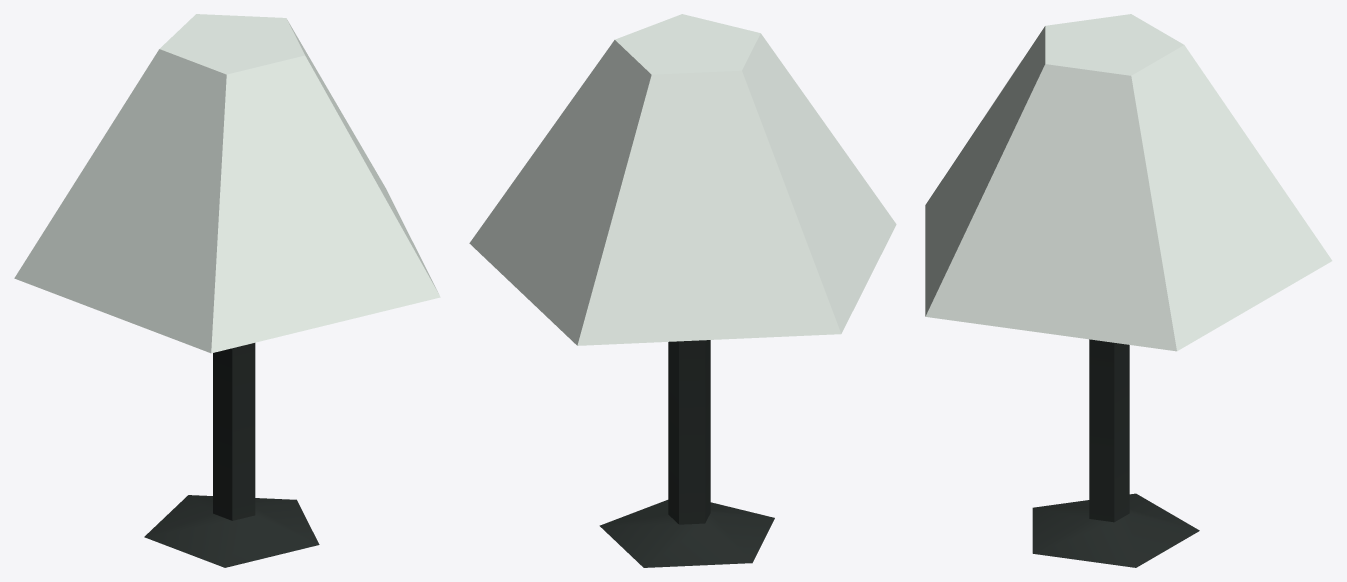
Rendered from Lamp_Off.glb.
3 views of the same model, side by side, from view 1: azimuth 30°, elevation 25°; view 2: azimuth 150°, elevation 25°; view 3: azimuth 270°, elevation 25° (orthographic).
Visible parts, largest first — view 1: lamp_Off; view 2: lamp_Off; view 3: lamp_Off.
Part boxes in pixels (box(x1,y1,x2,y2)): lamp_Off: box(14, 14, 440, 567); lamp_Off: box(469, 14, 896, 567); lamp_Off: box(925, 14, 1332, 567).
Size of the model in its own units: 0.4048 by 0.5068 by 0.385.
Materials: 1 (1 with a texture image).
